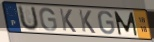G: (38, 7, 59, 32), (97, 10, 117, 36)
K: (58, 8, 78, 34), (77, 9, 97, 35)
M: (113, 11, 139, 37)
U: (17, 4, 40, 32)
